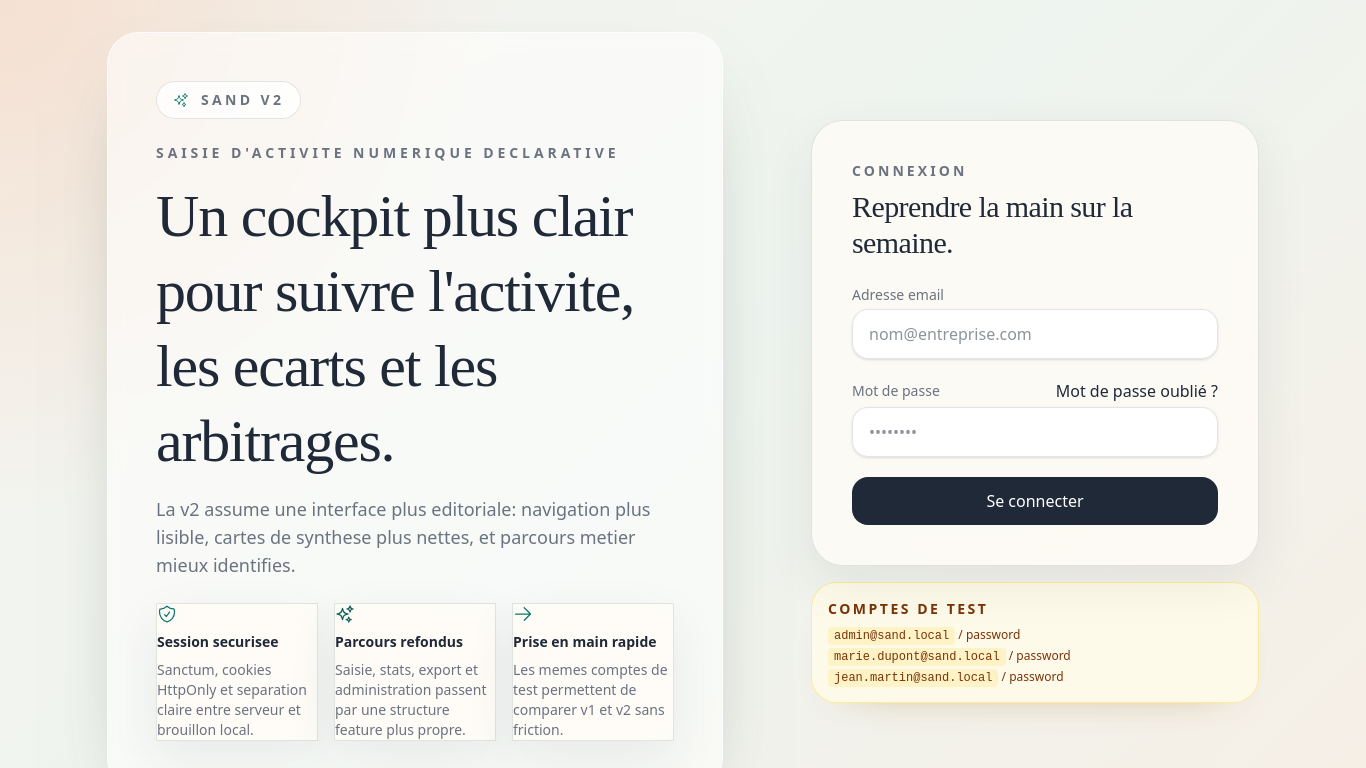
Test: LoginPage › filtre les espaces en temps reel dans le champ email
The image size is (1366, 768).
Type "test @email.com" into the field labelled "Adresse email" at x=1035, y=334, box [852, 308, 1218, 358]
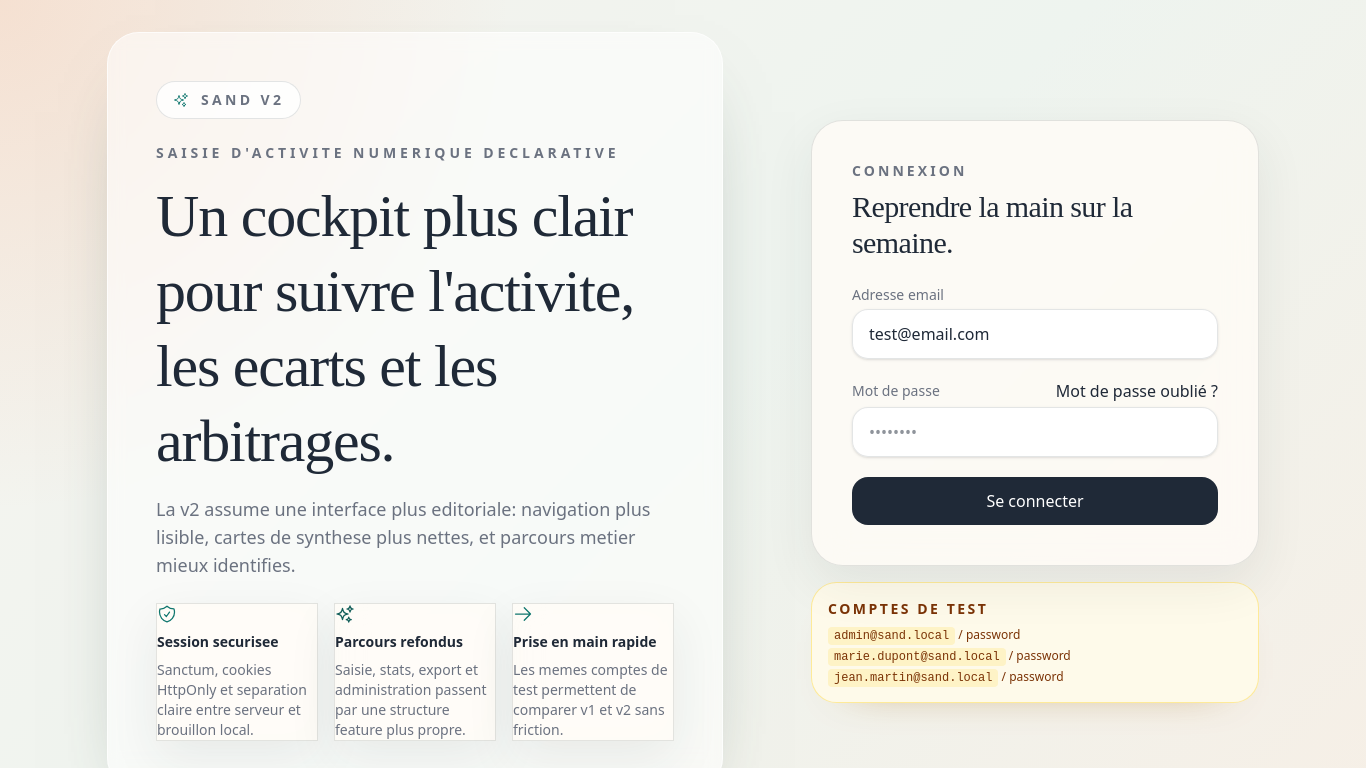
Expected: the field labelled "Adresse email" holds "test@email.com", [852, 308, 1218, 358]
